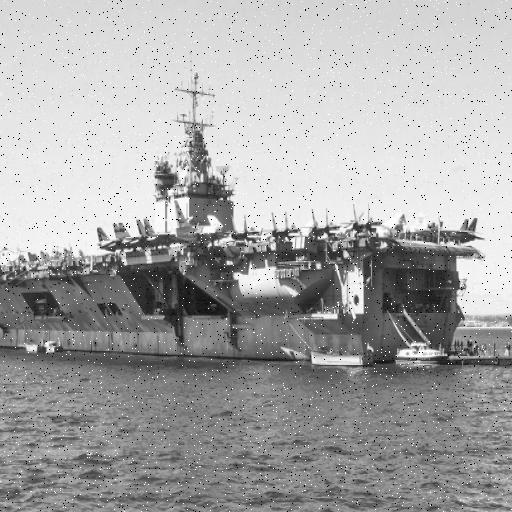Portanaves: (1, 43, 473, 368)
